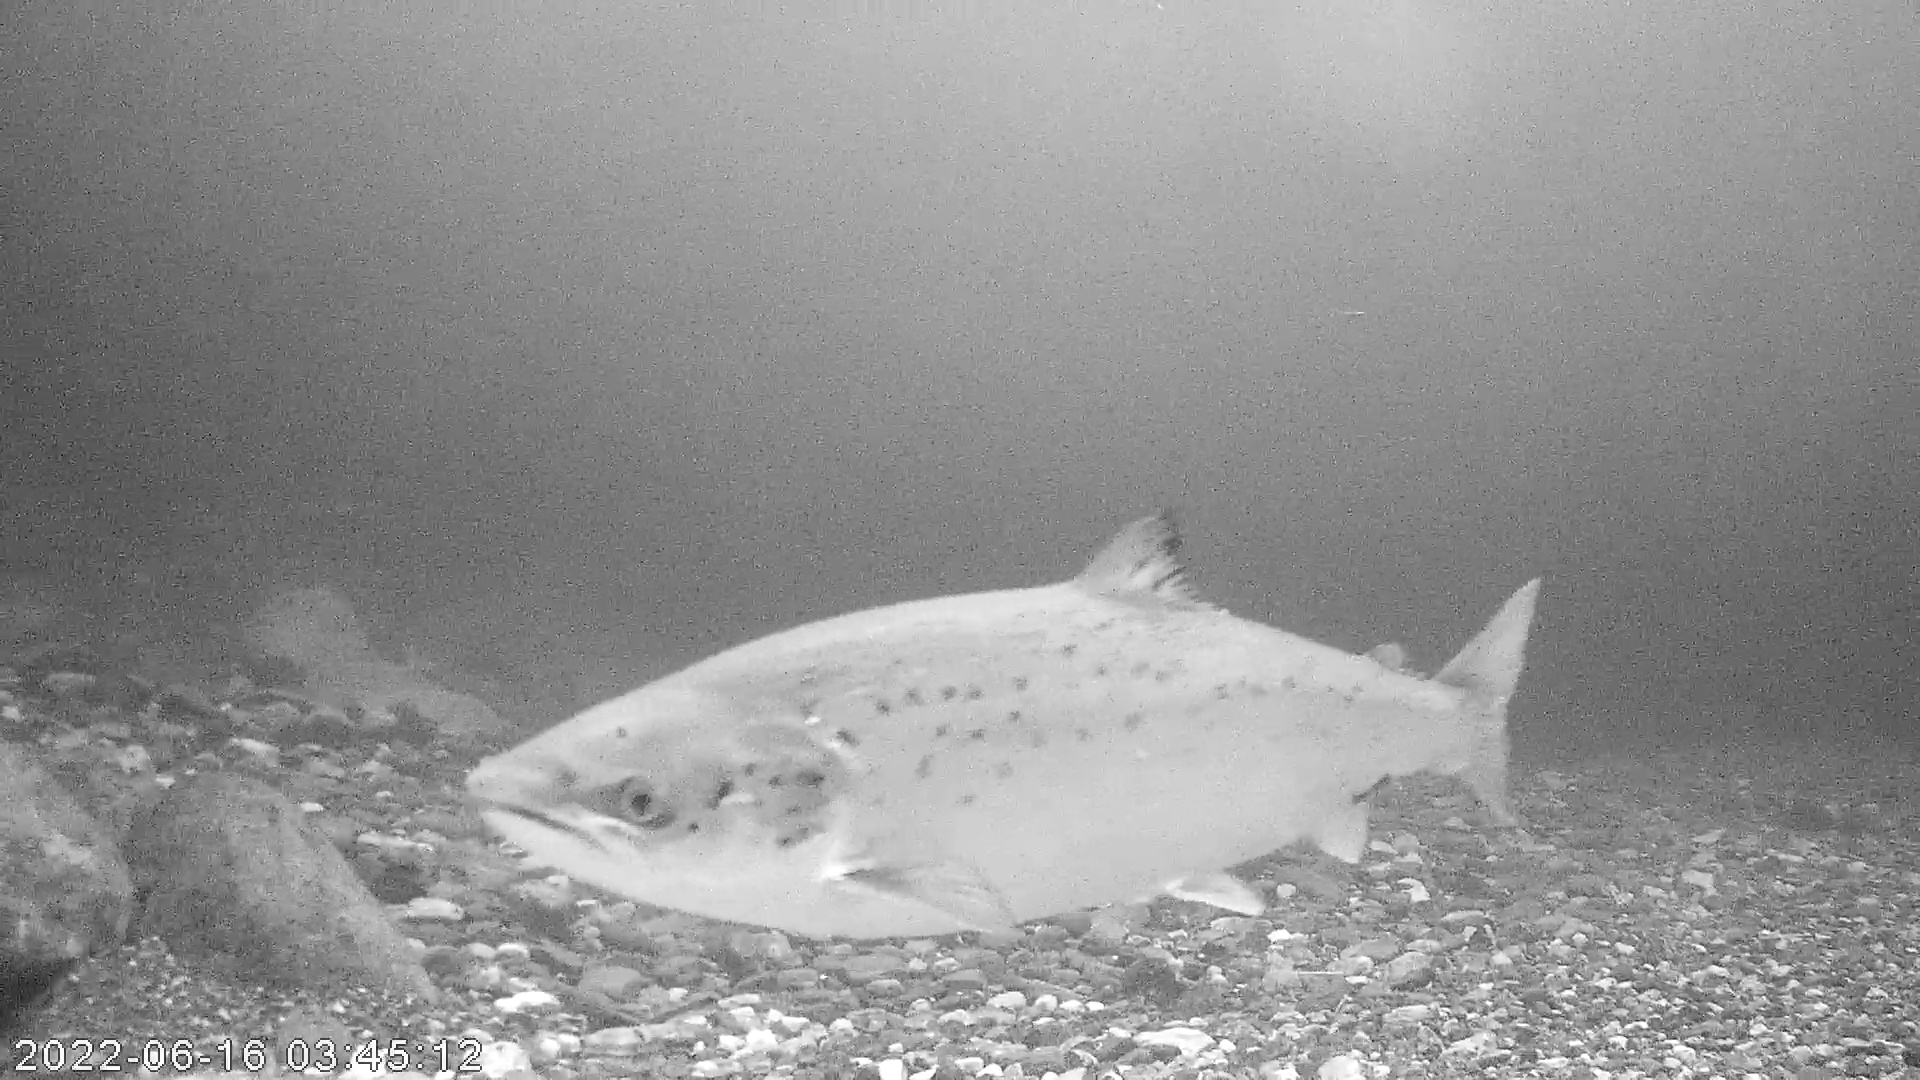salmon: (459, 502, 1543, 945)
